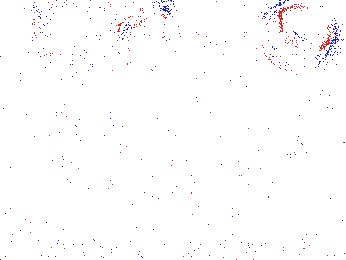moon jellyfish: (146, 1, 236, 86), (34, 1, 106, 90), (261, 79, 339, 157), (258, 1, 334, 72), (115, 7, 171, 74)
